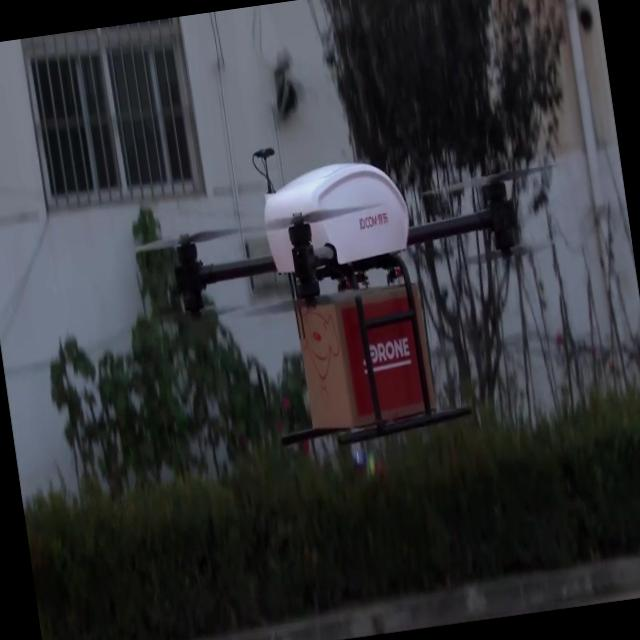drone: (122, 104, 597, 471)
